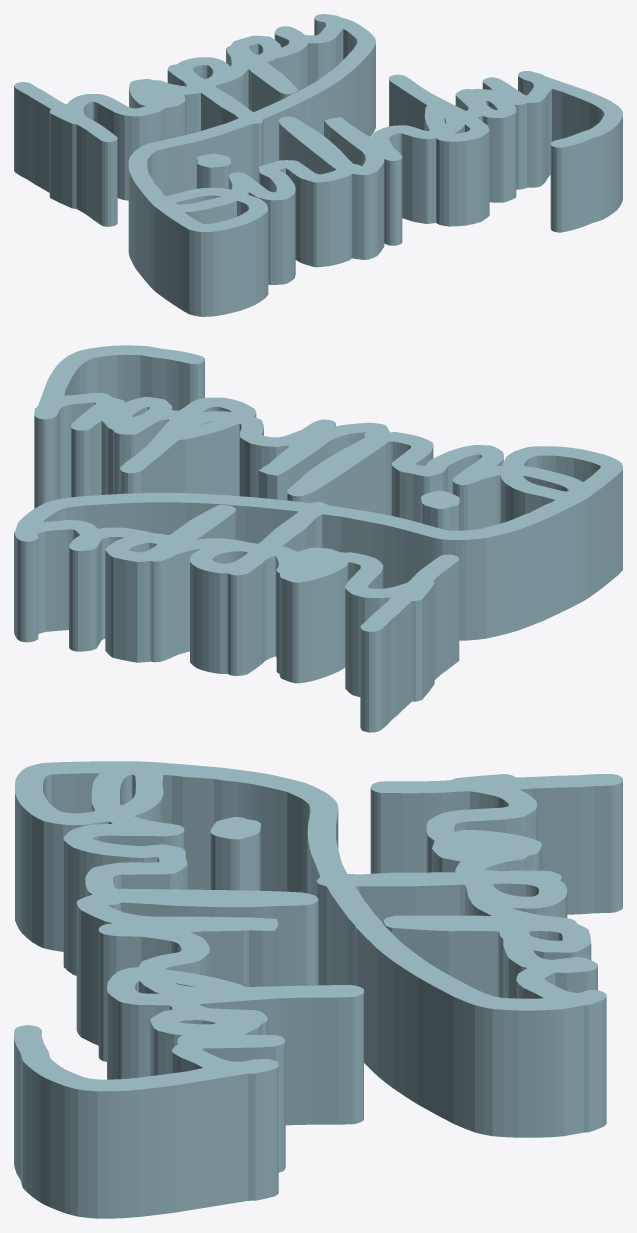
The model's file is happyBirthday.glb.
The picture shows the model from 3 angles, top to bottom: view 1: azimuth 30°, elevation 25°; view 2: azimuth 150°, elevation 25°; view 3: azimuth 270°, elevation 25°; orthographic projection. The views are drawn at different scales.
Parts seen in each view (by area): view 1: Mesh_Mesh_head_geo.001_lambert2SG.001; view 2: Mesh_Mesh_head_geo.001_lambert2SG.001; view 3: Mesh_Mesh_head_geo.001_lambert2SG.001.
Boxes of the visible parts, <box> form: Mesh_Mesh_head_geo.001_lambert2SG.001: <box>14,14,622,316</box>; Mesh_Mesh_head_geo.001_lambert2SG.001: <box>14,345,622,732</box>; Mesh_Mesh_head_geo.001_lambert2SG.001: <box>14,761,622,1218</box>.
Size of the model in its own units: 55.66 by 10 by 43.39.
